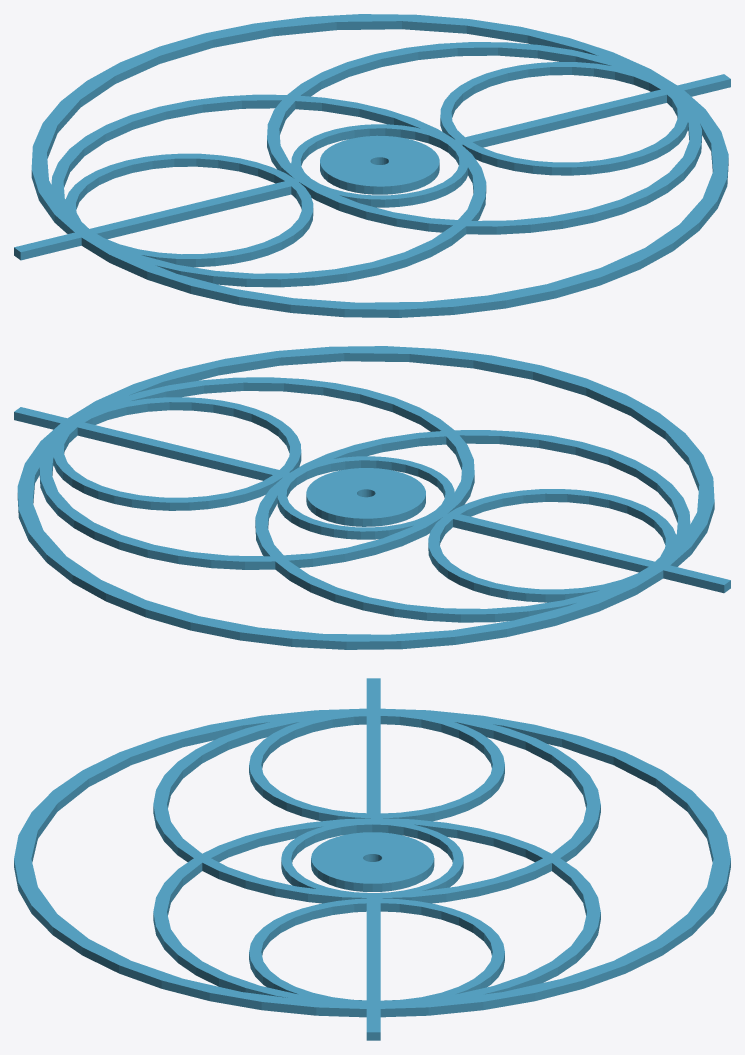
Rendered from SymbolToG-leuchtend.glb.
The picture shows the model from 3 angles, top to bottom: view 1: azimuth 30°, elevation 25°; view 2: azimuth 150°, elevation 25°; view 3: azimuth 270°, elevation 25°; orthographic projection. The views are drawn at different scales.
Visible parts, largest first — view 1: Grid.008; view 2: Grid.008; view 3: Grid.008.
Boxes of the visible parts, x1=… form: Grid.008: x1=14, y1=14, x2=730, y2=317; Grid.008: x1=14, y1=346, x2=730, y2=649; Grid.008: x1=14, y1=678, x2=730, y2=1040.
Bounding box in the file's own units: 4.54 × 0.0543 × 3.89.
